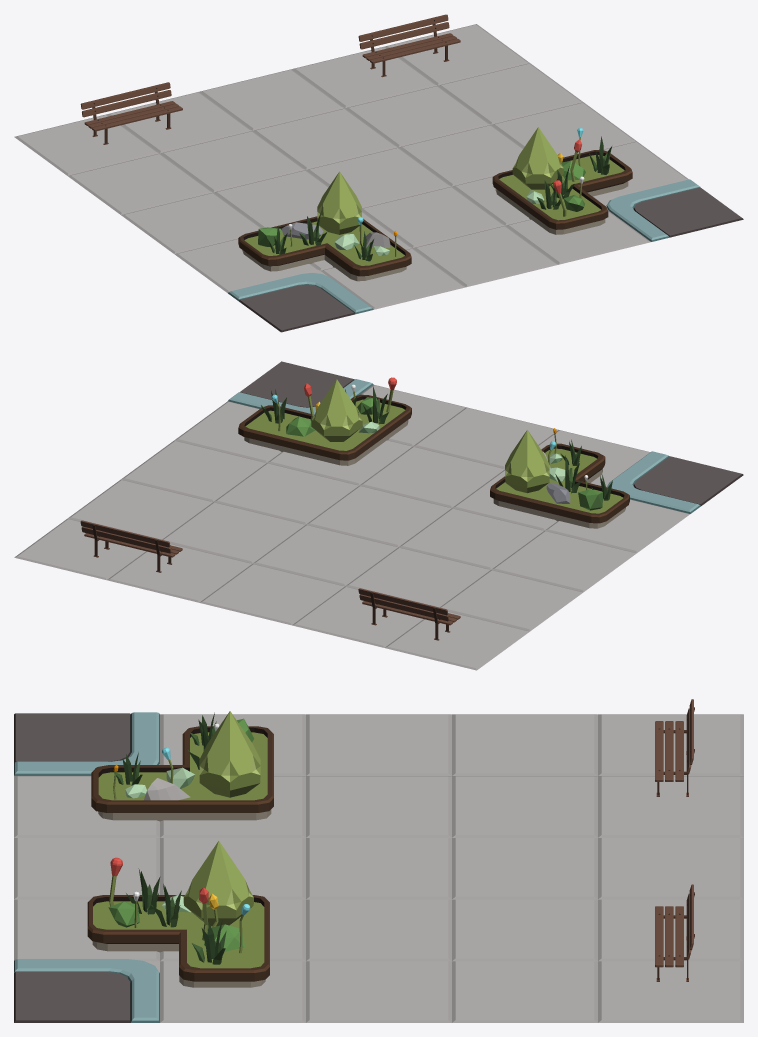
Rendered from EmptyFork_A.glb.
The picture shows the model from 3 angles, top to bottom: view 1: azimuth 30°, elevation 25°; view 2: azimuth 150°, elevation 25°; view 3: azimuth 270°, elevation 25°; orthographic projection. The views are drawn at different scales.
Visible parts, largest first — view 1: EmptyFork_A, Cube.228, Cube.227, Bench_01.011, Bench_01.012, Cone.010, Cone.009; view 2: EmptyFork_A, Cube.228, Cube.227, Cone.010, Cone.009, Bench_01.012, Bench_01.011; view 3: EmptyFork_A, Cube.228, Cube.227, Cone.009, Cone.010, Bench_01.012, Bench_01.011, Grass_03.535, Rock_21.015, Grass_03.536, Tree_03.1383, Tree_03.1382 (+1 smaller).
Boxes of the visible parts, x1=… form: EmptyFork_A: x1=14, y1=24, x2=743, y2=332; Cube.228: x1=492, y1=150, x2=632, y2=234; Cube.227: x1=238, y1=216, x2=411, y2=281; Bench_01.011: x1=80, y1=82, x2=182, y2=144; Bench_01.012: x1=358, y1=14, x2=460, y2=77; Cone.010: x1=512, y1=127, x2=563, y2=189; Cone.009: x1=317, y1=171, x2=361, y2=234; EmptyFork_A: x1=14, y1=361, x2=743, y2=670; Cube.228: x1=238, y1=394, x2=411, y2=465; Cube.227: x1=490, y1=443, x2=629, y2=528; Cone.010: x1=311, y1=379, x2=362, y2=441; Cone.009: x1=505, y1=430, x2=549, y2=493; Bench_01.012: x1=80, y1=520, x2=182, y2=572; Bench_01.011: x1=358, y1=588, x2=460, y2=640; EmptyFork_A: x1=14, y1=712, x2=743, y2=1022; Cube.228: x1=87, y1=895, x2=269, y2=987; Cube.227: x1=91, y1=726, x2=273, y2=821; Cone.009: x1=199, y1=711, x2=260, y2=797; Cone.010: x1=183, y1=840, x2=253, y2=926; Bench_01.012: x1=655, y1=884, x2=694, y2=981; Bench_01.011: x1=655, y1=699, x2=694, y2=796; Grass_03.535: x1=192, y1=919, x2=226, y2=964; Rock_21.015: x1=144, y1=778, x2=190, y2=800; Grass_03.536: x1=126, y1=868, x2=160, y2=914; Tree_03.1383: x1=108, y1=901, x2=139, y2=927; Tree_03.1382: x1=204, y1=924, x2=244, y2=951.
Size of what is drawn, in the model's own units: 16 by 2.35 by 16.
Materials: 2 (2 with a texture image).
